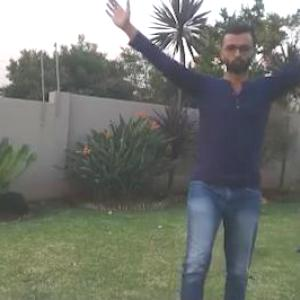takeoff: (112, 5, 299, 298)
